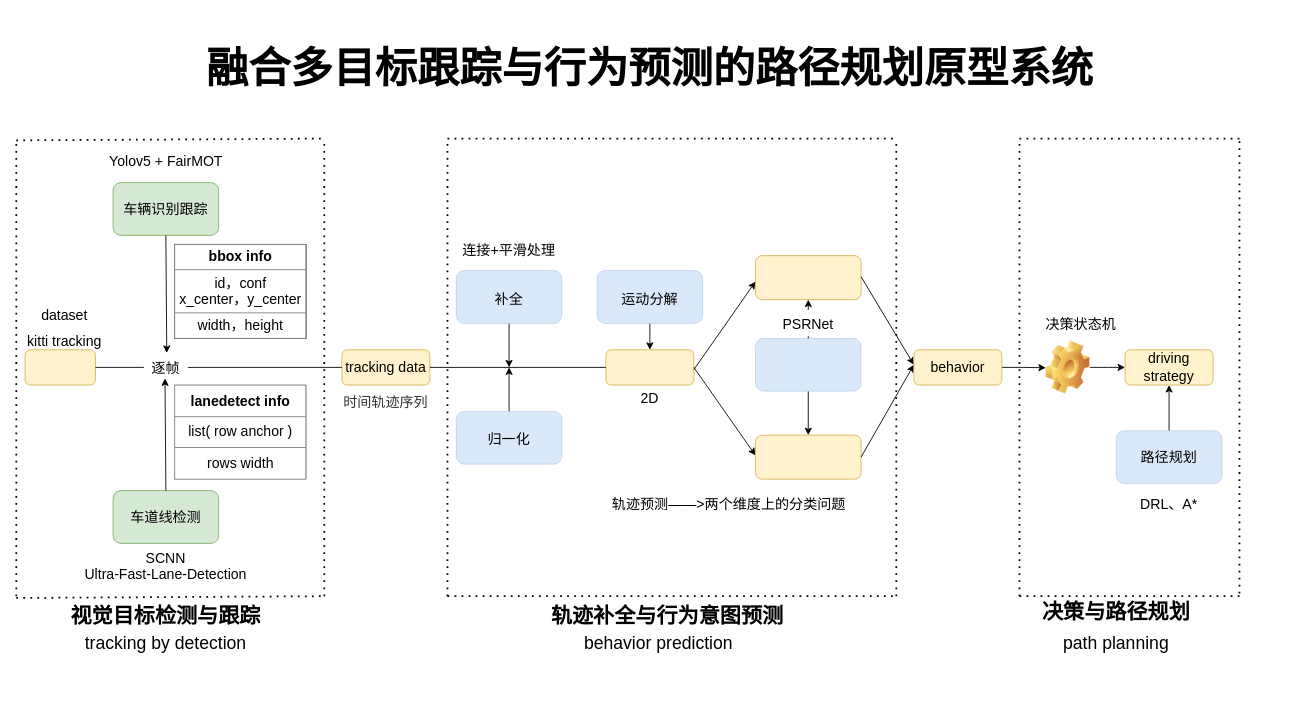
This 1316x708 diagram has some shape labels left out. The shapes that lost their labels are listed below. From the top down, each one's centre as x and y in pixels, then its label:
At point 808,277: "horizontal track".
At point 59,367: "video".
At point 649,367: "history track".
At point 808,364: "行为意图预测".
At point 808,456: "vertical track".
